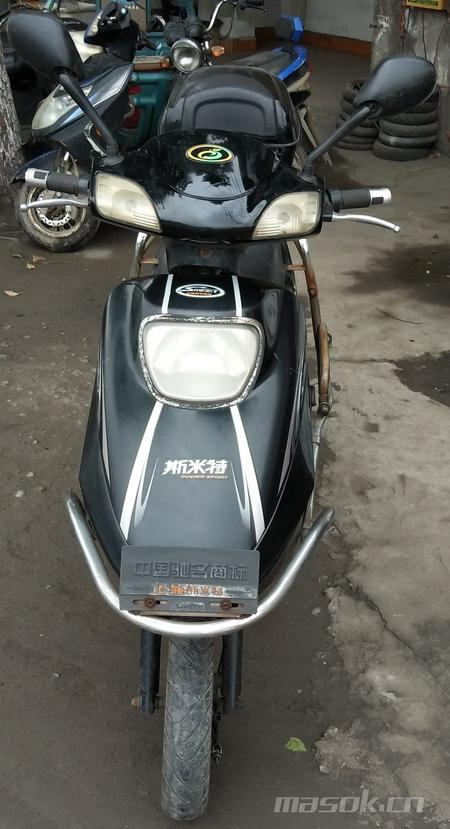电动车: (6, 6, 439, 821), (13, 8, 317, 247)
